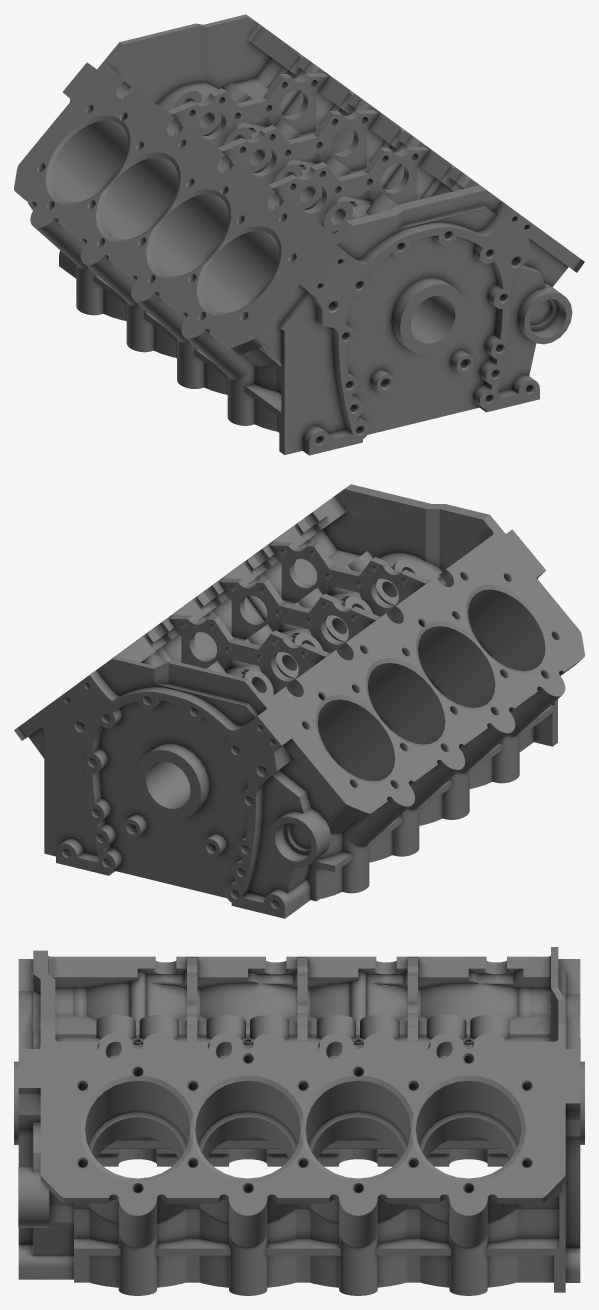
Rendered from engine.glb.
3 renders of one model, top to bottom at view 1: azimuth 30°, elevation 25°; view 2: azimuth 150°, elevation 25°; view 3: azimuth 270°, elevation 25°, orthographic. The views are drawn at different scales.
Visible parts, largest first — view 1: 13475_V8_Engine_Block_v1_l1; view 2: 13475_V8_Engine_Block_v1_l1; view 3: 13475_V8_Engine_Block_v1_l1.
Boxes of the visible parts, x1=… form: 13475_V8_Engine_Block_v1_l1: x1=14, y1=14, x2=584, y2=455; 13475_V8_Engine_Block_v1_l1: x1=14, y1=484, x2=584, y2=918; 13475_V8_Engine_Block_v1_l1: x1=14, y1=947, x2=584, y2=1295.
Bounding box in the file's own units: 41.57 × 23.43 × 49.76.
Materials: 1 (1 with a texture image).
